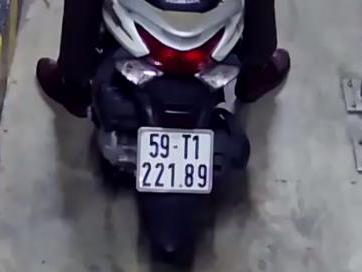num_plate: (135, 125, 213, 194)
